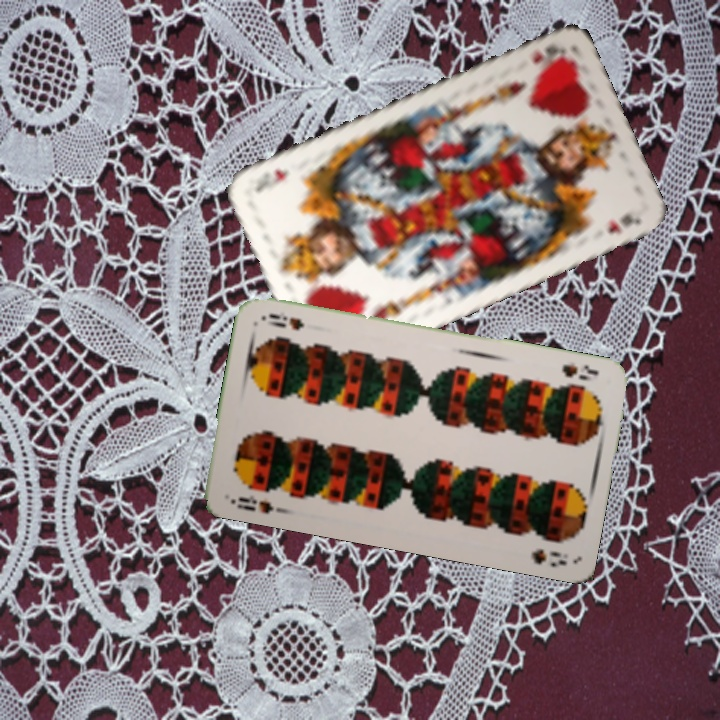HK: (529, 40, 564, 67)
S8: (234, 490, 276, 516), (558, 359, 601, 383)
